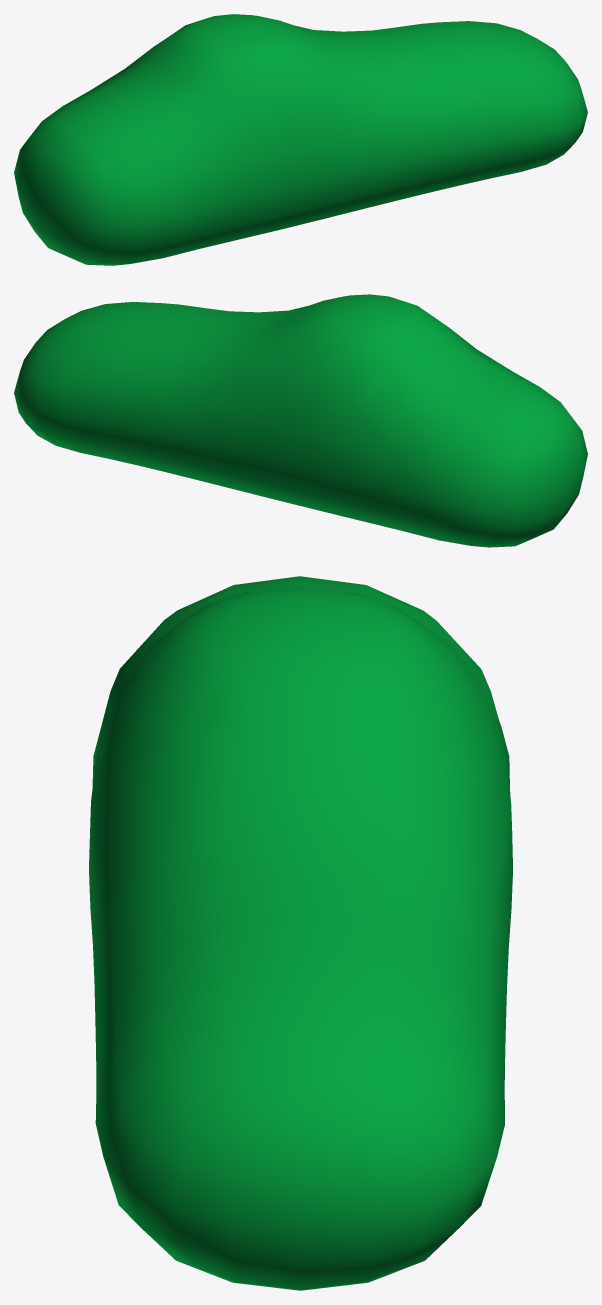
The model's file is Farm_13_Bush_3.glb.
3 views of the same model, one above another, from view 1: azimuth 30°, elevation 25°; view 2: azimuth 150°, elevation 25°; view 3: azimuth 270°, elevation 25° (orthographic). The views are drawn at different scales.
Visible parts, largest first — view 1: Farm_13_Bush_3; view 2: Farm_13_Bush_3; view 3: Farm_13_Bush_3.
Part boxes in pixels (x1,y1,x2,y2): Farm_13_Bush_3: (14,14,587,265); Farm_13_Bush_3: (14,294,587,547); Farm_13_Bush_3: (89,576,512,1290).
Size of the model in its own units: 1.64 by 0.5756 by 0.5634.
Materials: 1 (1 with a texture image).
